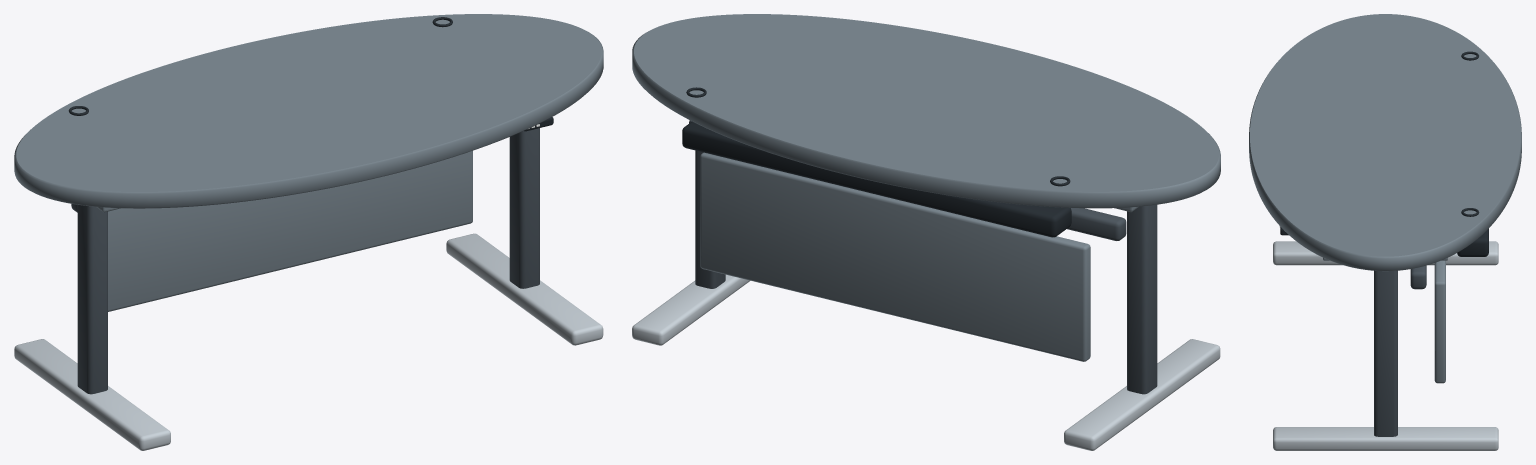
Rendered from curved-executive-desk.glb.
3 renders of one model, left to right at view 1: azimuth 30°, elevation 25°; view 2: azimuth 150°, elevation 25°; view 3: azimuth 270°, elevation 25°, orthographic. The views are drawn at different scales.
Visible parts, largest first — view 1: catalog_surface_RealismUV; view 2: catalog_surface_RealismUV, catalog_surface_UVMap; view 3: catalog_surface_RealismUV, catalog_surface_UVMap.
Boxes of the visible parts, box(x1,y1,x2,y2) form: catalog_surface_RealismUV: box(14, 14, 603, 450); catalog_surface_RealismUV: box(632, 14, 1220, 450); catalog_surface_UVMap: box(682, 87, 1071, 237); catalog_surface_RealismUV: box(1249, 14, 1521, 450); catalog_surface_UVMap: box(1280, 51, 1488, 256).
Bounding box in the file's own units: 1.8 × 0.76 × 0.85.
